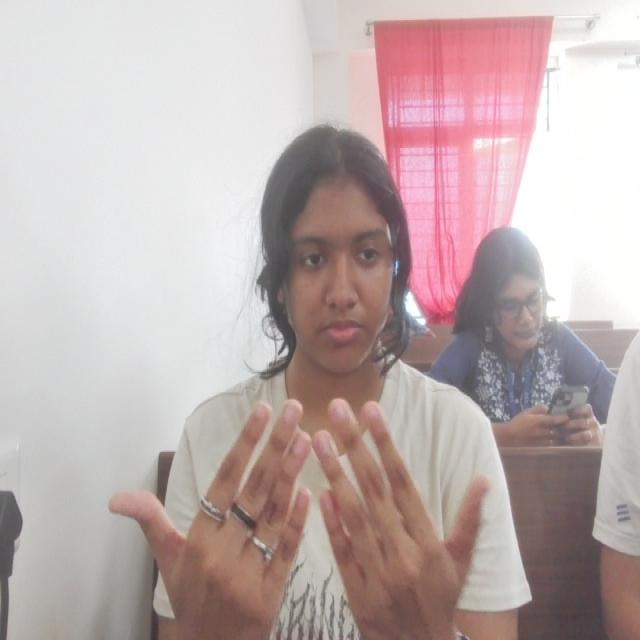thankyou: (105, 395, 492, 640)
